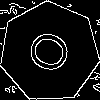O: (24, 27, 82, 81)
